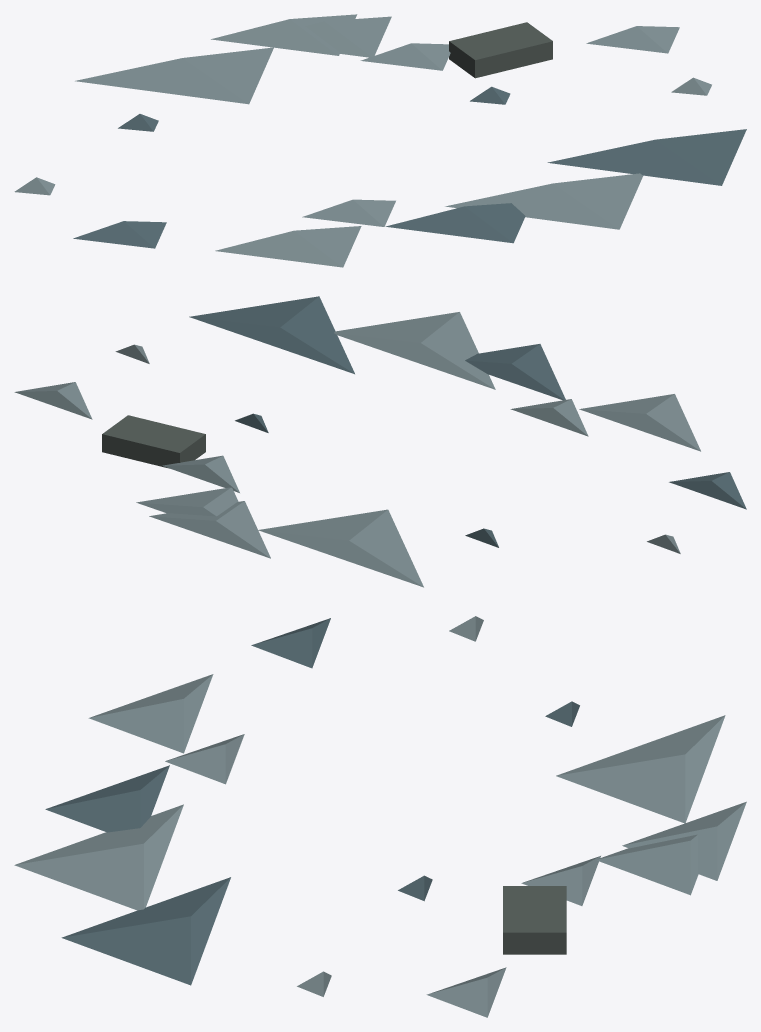
File: HX-04_diffuser_chips.glb
3 views of the same model, one above another, from view 1: azimuth 30°, elevation 25°; view 2: azimuth 150°, elevation 25°; view 3: azimuth 270°, elevation 25° (orthographic). The views are drawn at different scales.
Parts seen in each view (by area): view 1: HX-04_diffuser_chips; view 2: HX-04_diffuser_chips; view 3: HX-04_diffuser_chips.
Part boxes in pixels (x1=…): HX-04_diffuser_chips: x1=14, y1=14, x2=746, y2=267; HX-04_diffuser_chips: x1=14, y1=296, x2=746, y2=587; HX-04_diffuser_chips: x1=14, y1=616, x2=746, y2=1017.
Size of the model in its own units: 0.7747 by 0.021 by 0.5983.
